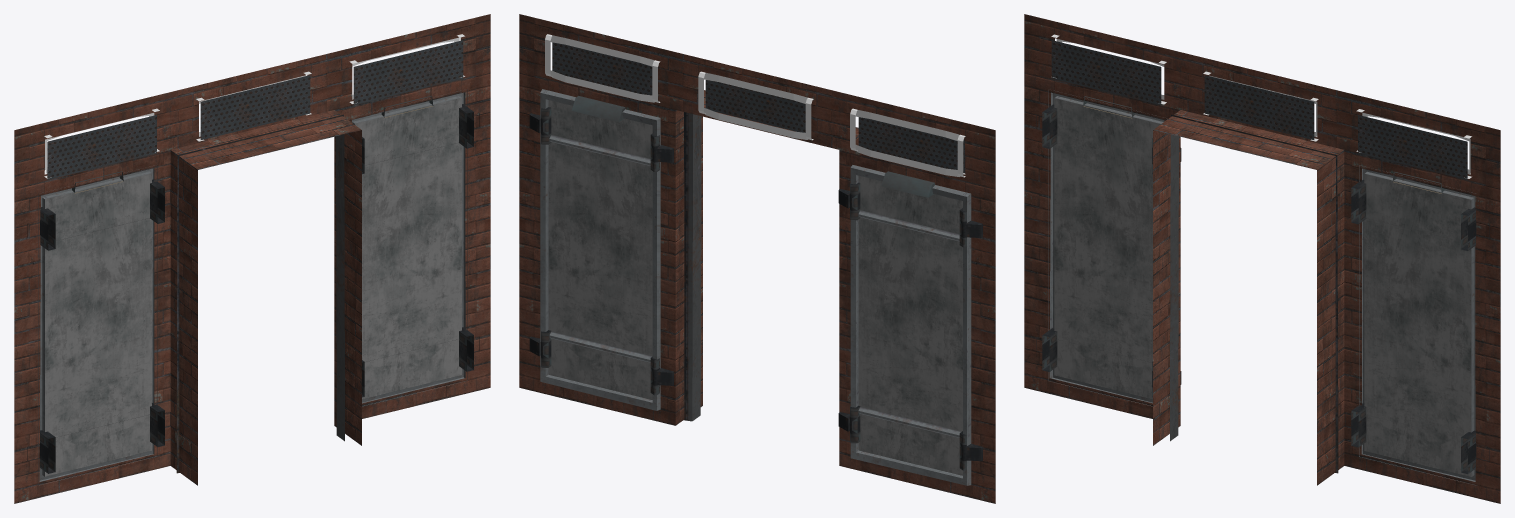
The model's file is ARC0910024.fbx.
3 renders of one model, left to right at view 1: azimuth 30°, elevation 25°; view 2: azimuth 150°, elevation 25°; view 3: azimuth 330°, elevation 25°, orthographic.
Visible parts, largest first — view 1: smARC0910024; view 2: smARC0910024; view 3: smARC0910024.
Boxes of the visible parts, left/top/right/bottom form: smARC0910024: left=14, top=14, right=490, bottom=503; smARC0910024: left=519, top=14, right=995, bottom=503; smARC0910024: left=1024, top=14, right=1500, bottom=503.
Size of the model in its own units: 400 by 301 by 49.97.
1 material, 1 textured.
